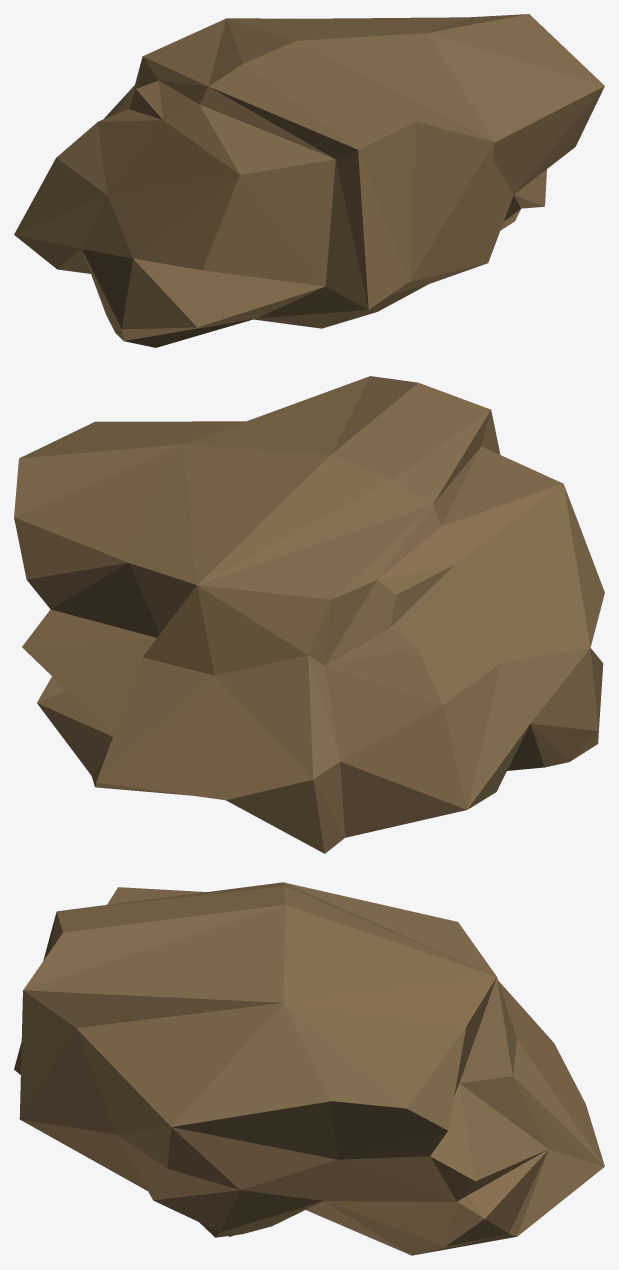
The model's file is adventure_SM_Env_Rock_011.gltf.
3 renders of one model, top to bottom at view 1: azimuth 30°, elevation 25°; view 2: azimuth 150°, elevation 25°; view 3: azimuth 270°, elevation 25°, orthographic. The views are drawn at different scales.
Parts seen in each view (by area): view 1: SM_Env_Rock_011; view 2: SM_Env_Rock_011; view 3: SM_Env_Rock_011.
Boxes of the visible parts, left/top/right/bottom form: SM_Env_Rock_011: left=14, top=14, right=604, bottom=347; SM_Env_Rock_011: left=14, top=376, right=604, bottom=853; SM_Env_Rock_011: left=14, top=882, right=604, bottom=1255.
Bounding box in the file's own units: 2.72 × 1.51 × 2.67.
1 material, 1 textured.
